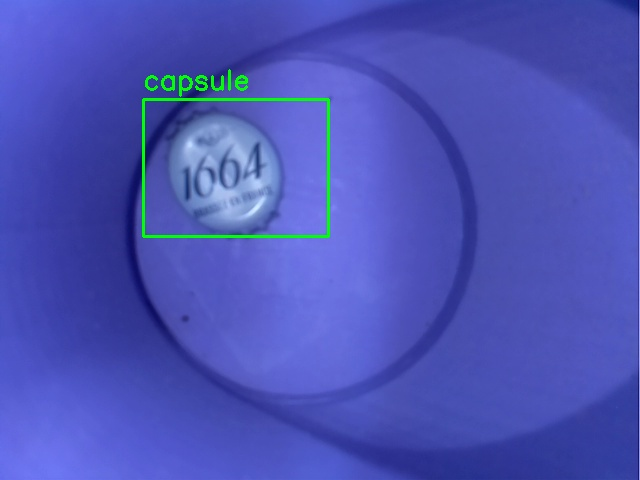capsule: (143, 99, 328, 236)
